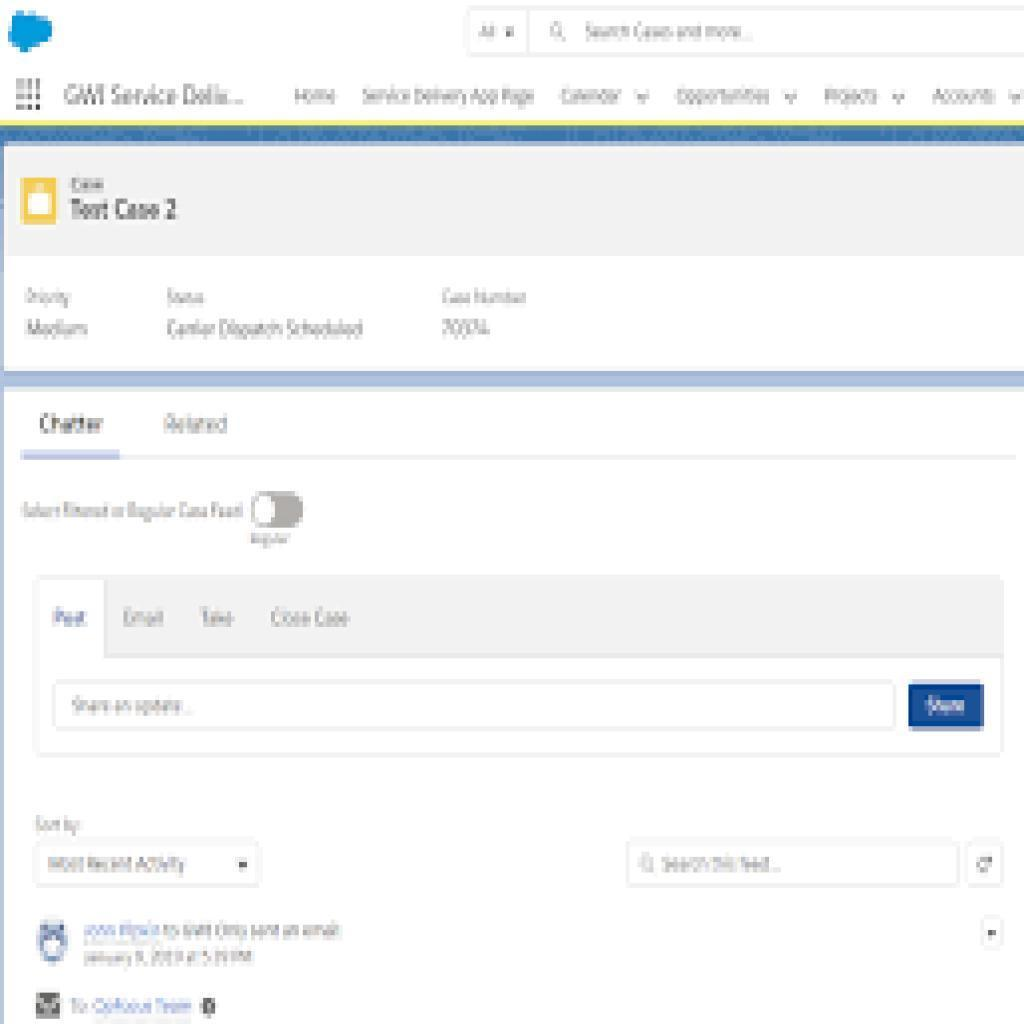button: (907, 682, 984, 730)
dropdown: (33, 844, 263, 888)
icon: (8, 7, 56, 56), (18, 175, 62, 227), (34, 921, 72, 969), (967, 841, 1001, 887), (12, 75, 46, 114), (35, 990, 64, 1021)
input: (52, 680, 896, 734), (530, 14, 1024, 57), (628, 841, 961, 888)
switch: (253, 494, 307, 529)
